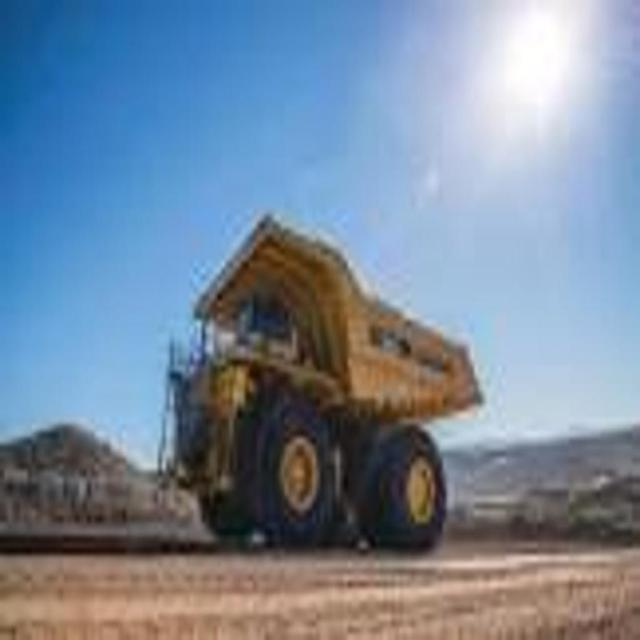dump_truck: (158, 208, 492, 572)
